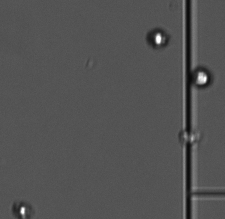Living Cell: (146, 26, 169, 49), (191, 65, 211, 87), (13, 201, 32, 217)
